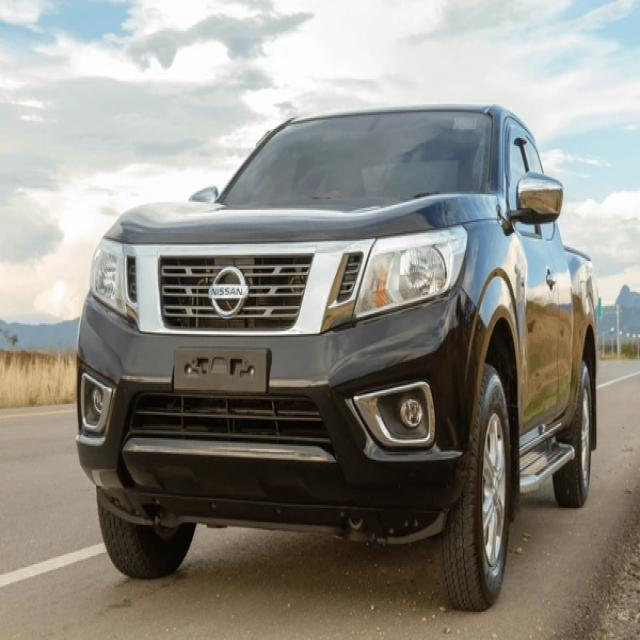nissan: (211, 268, 249, 321)
